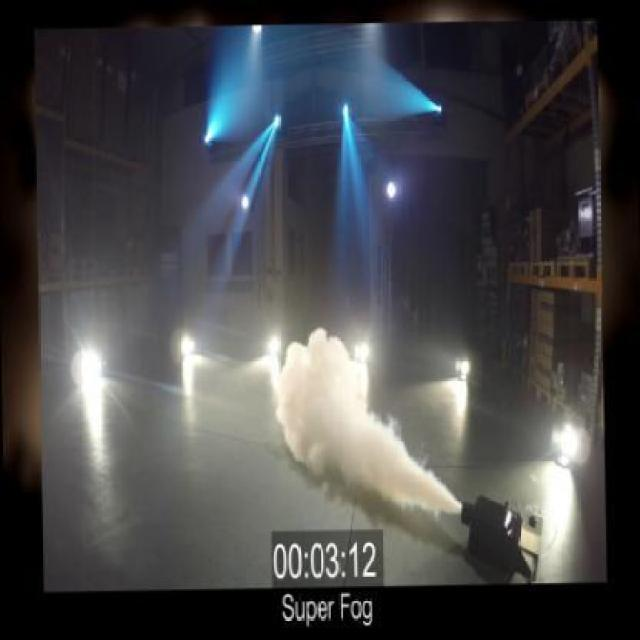fire: (276, 324, 447, 518)
